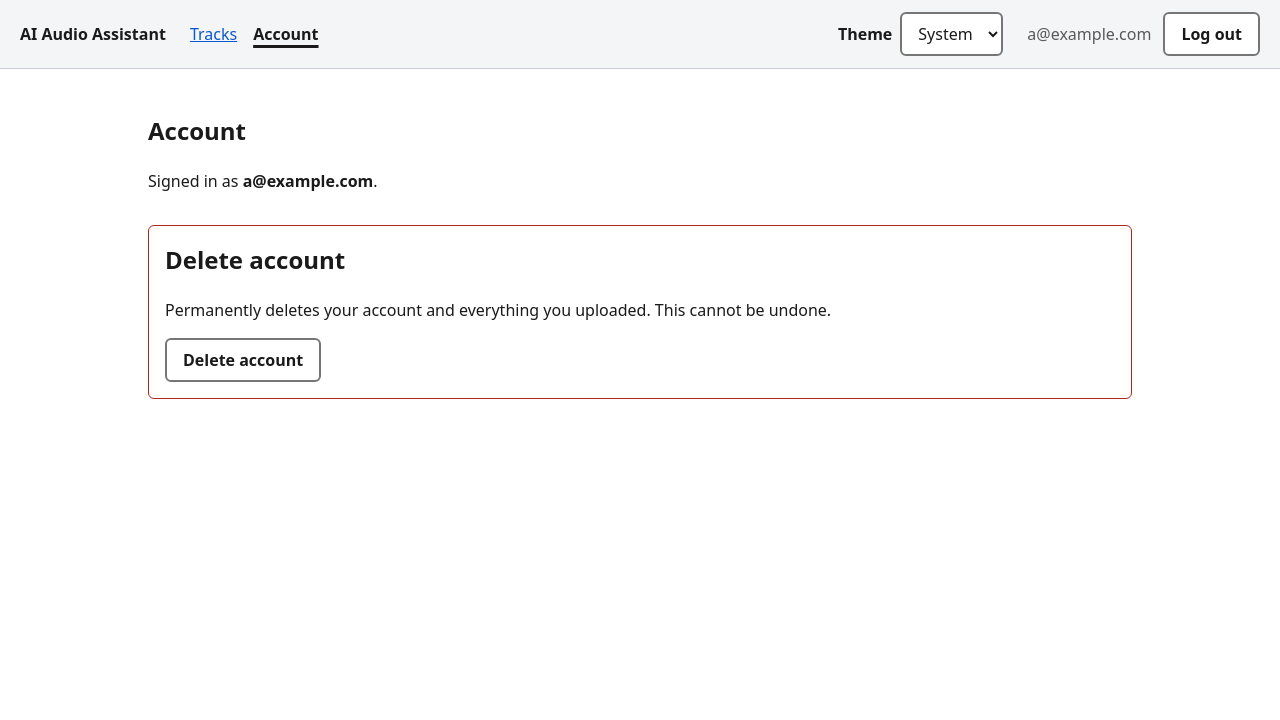
Test: AccountPage › opens the dialog with the password field focused
This screenshot has width=1280, height=720.
Check: the heading "Account" is shown, box [148,114,246,147]
Click the button "Delete account": [243, 360] box [165,338,321,382]
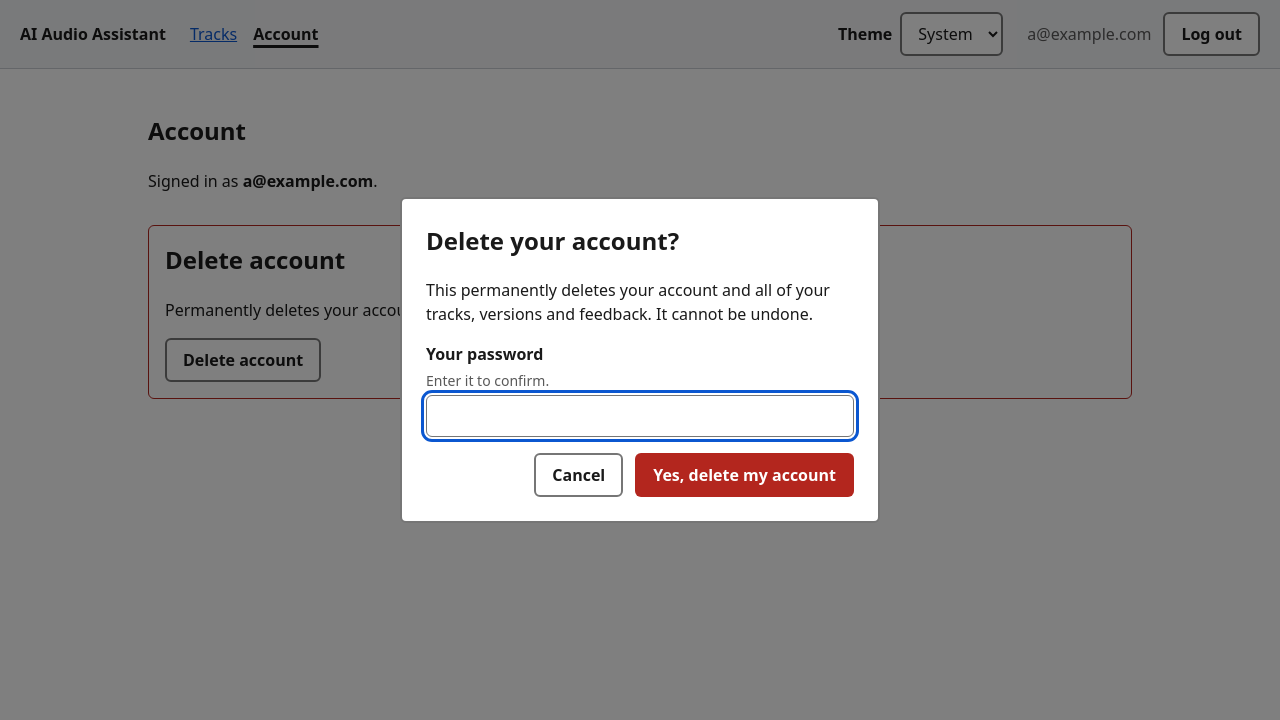
Check: the heading "Delete your account?" is shown, box [426,224,679,256]
